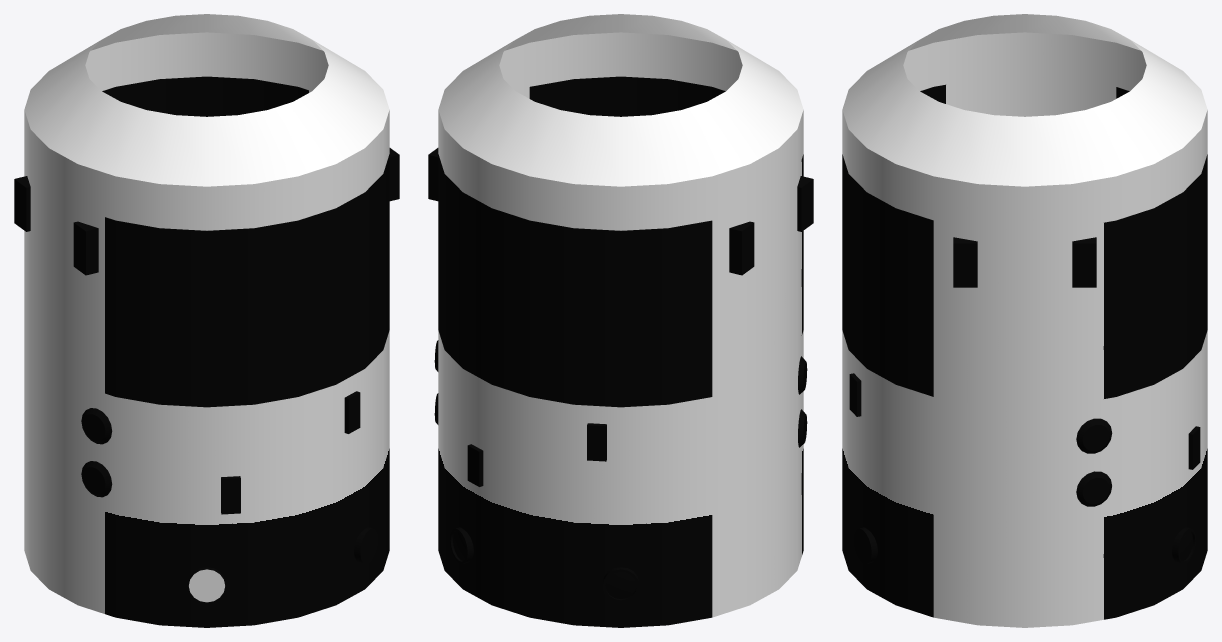
Rendered from hamal_cargo_module_s1_2.obj.
3 renders of one model, left to right at view 1: azimuth 30°, elevation 25°; view 2: azimuth 150°, elevation 25°; view 3: azimuth 270°, elevation 25°, orthographic.
Parts seen in each view (by area): view 1: 2; view 2: 2, w2; view 3: 2.
Part boxes in pixels (left/top/right/bottom): 2: left=14, top=14, right=399, bottom=627; 2: left=428, top=14, right=813, bottom=627; w2: left=453, top=531, right=636, bottom=598; 2: left=842, top=14, right=1207, bottom=627.
Size of the model in its own units: 1.88 by 3 by 1.88.
